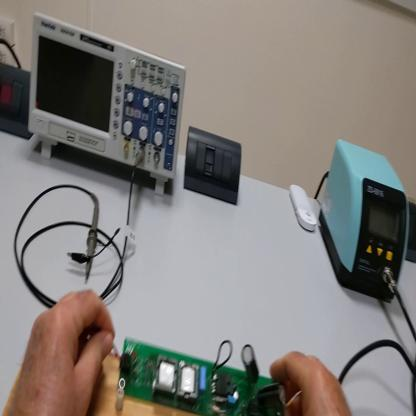hand: (13, 294, 115, 416), (269, 349, 353, 416)
high voltage board: (104, 344, 284, 416)
oscilloscope: (29, 13, 185, 205)
oscilloscope probe tip: (87, 199, 103, 277)
socket: (1, 62, 36, 142), (405, 201, 416, 270)
welder station: (321, 143, 411, 304)
working area: (88, 353, 188, 416)
